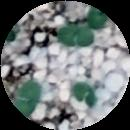Basil: (17, 82, 38, 115), (59, 25, 92, 45), (73, 84, 97, 106)
